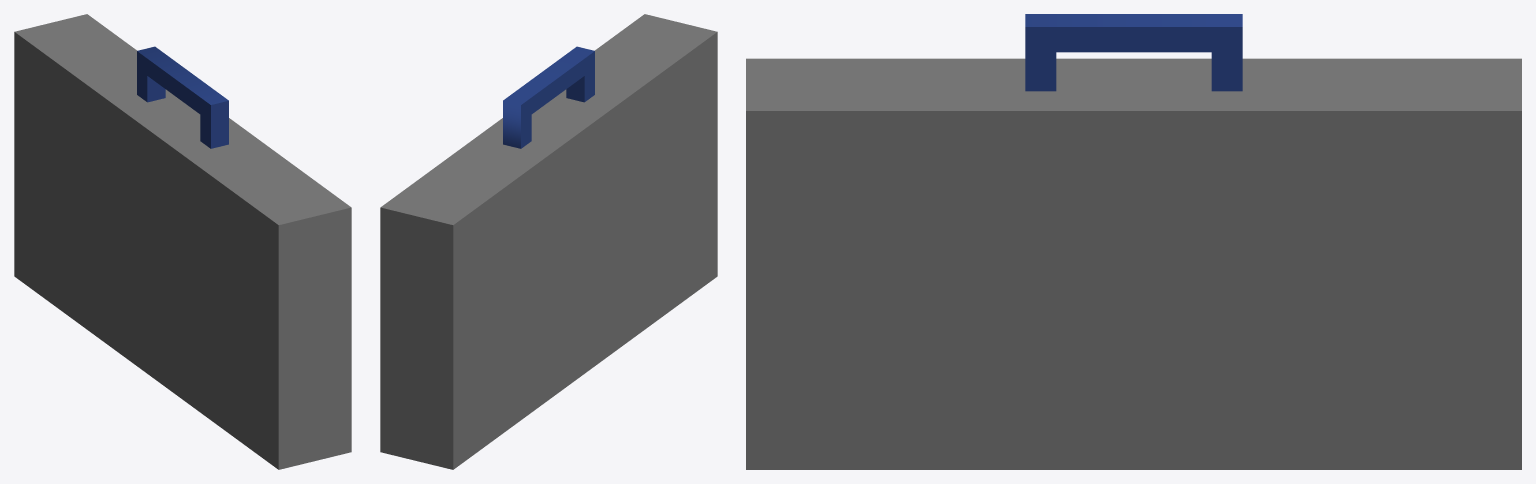
The model's file is brefcase1.fbx.
The picture shows the model from 3 angles, left to right: view 1: azimuth 30°, elevation 25°; view 2: azimuth 150°, elevation 25°; view 3: azimuth 270°, elevation 25°; orthographic projection. The views are drawn at different scales.
Visible parts, largest first — view 1: brefcase; view 2: brefcase; view 3: brefcase.
Boxes of the visible parts, x1,y1,x2,y2 form: brefcase: [14, 14, 351, 469]; brefcase: [380, 14, 717, 469]; brefcase: [746, 14, 1521, 469].
Bounding box in the file's own units: 10.91 × 41.31 × 68.59.
